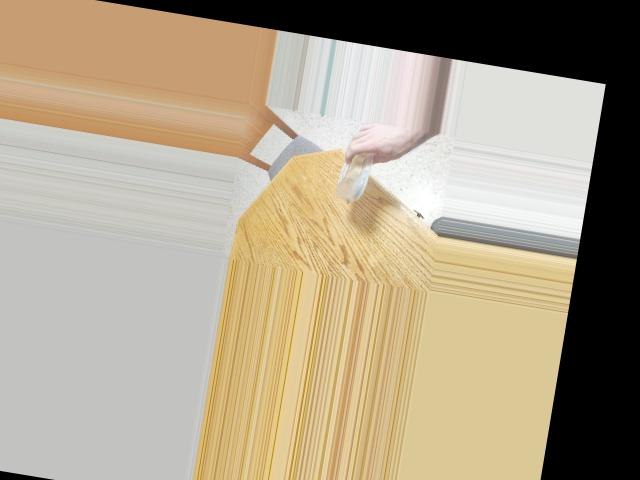cheese: (322, 131, 401, 208)
